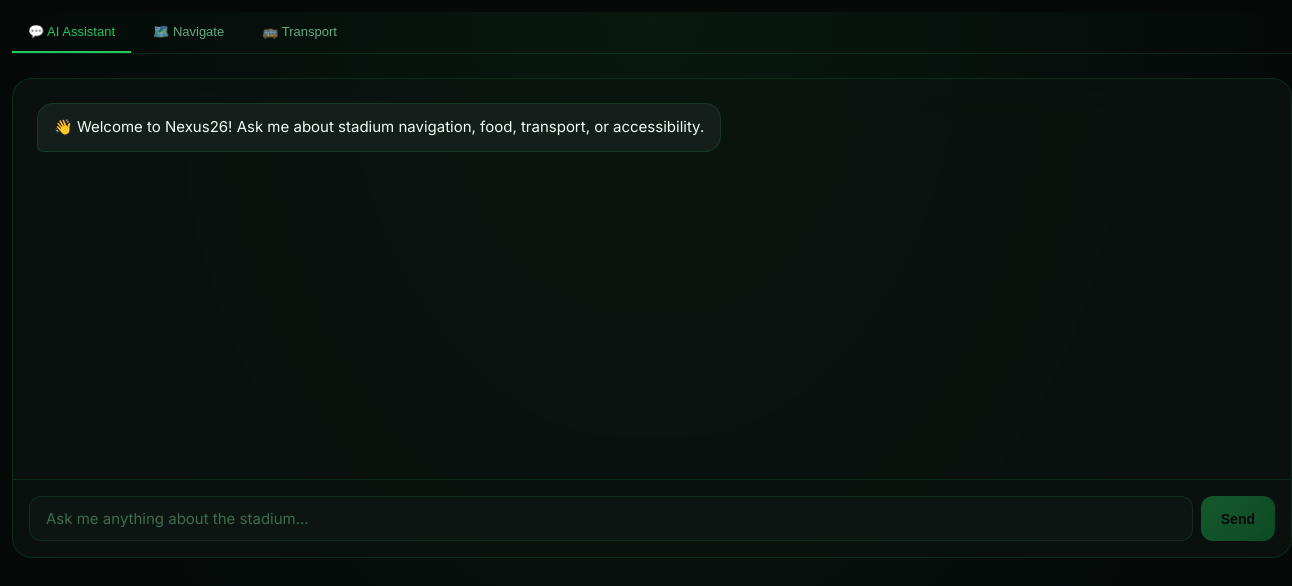
FanDashboard › switches to Navigate tab and shows navigation cards
The image size is (1292, 586).
Click the button "🗺️ Navigate" at (189, 32), box [137,12,240,53]
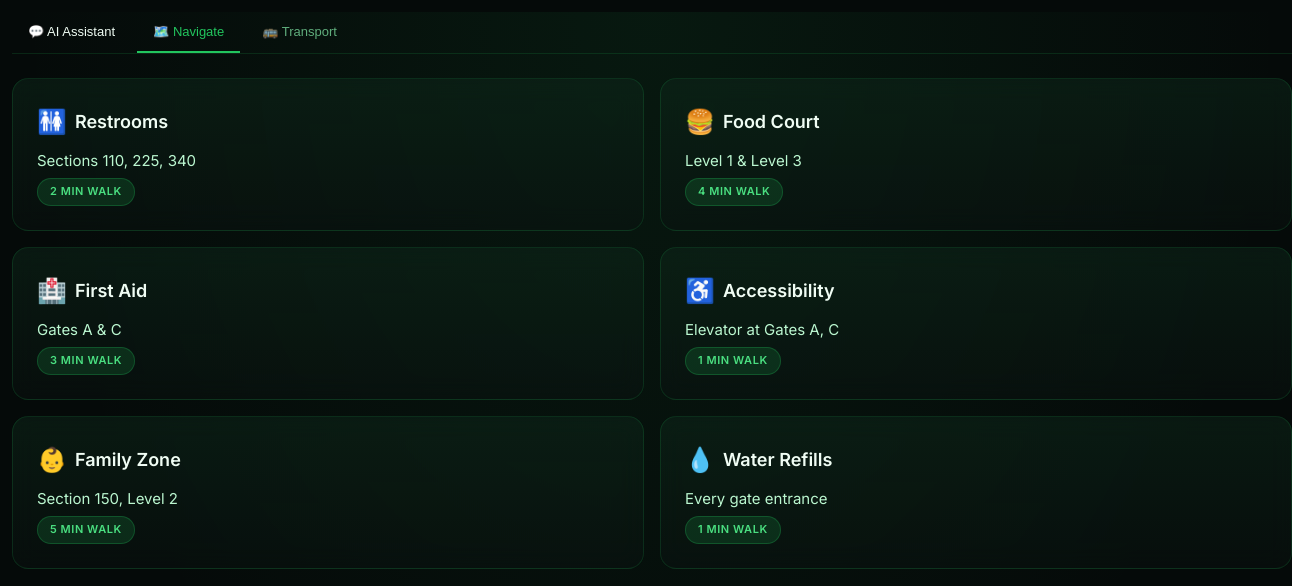
Check: the text "Restrooms" is shown, box [75,108,168,137]
Check: the text "Food Court" is shown, box [723,108,820,137]
Check: the text "First Aid" is shown, box [75,277,147,306]
